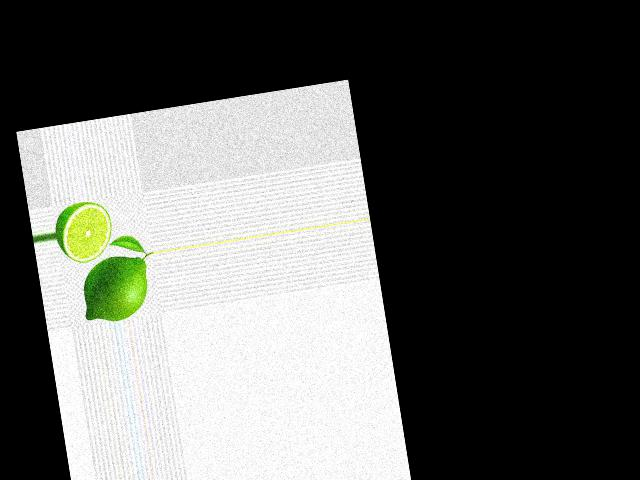lemon: (72, 248, 156, 326)
